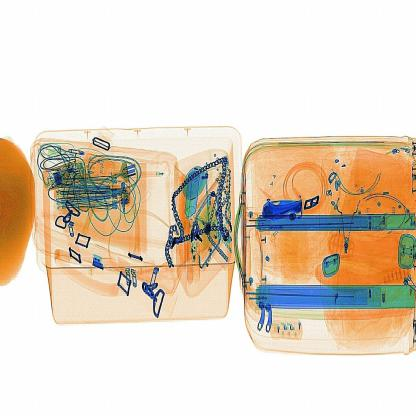knife: (258, 183, 309, 226)
